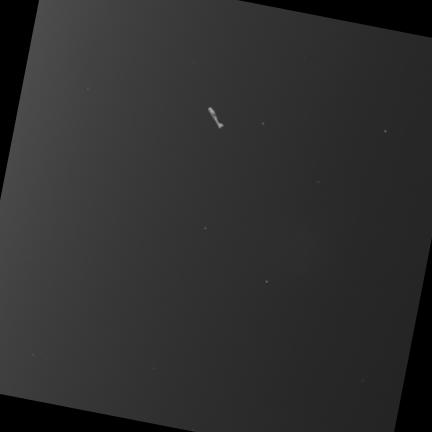Shahed: (207, 108, 222, 128)
